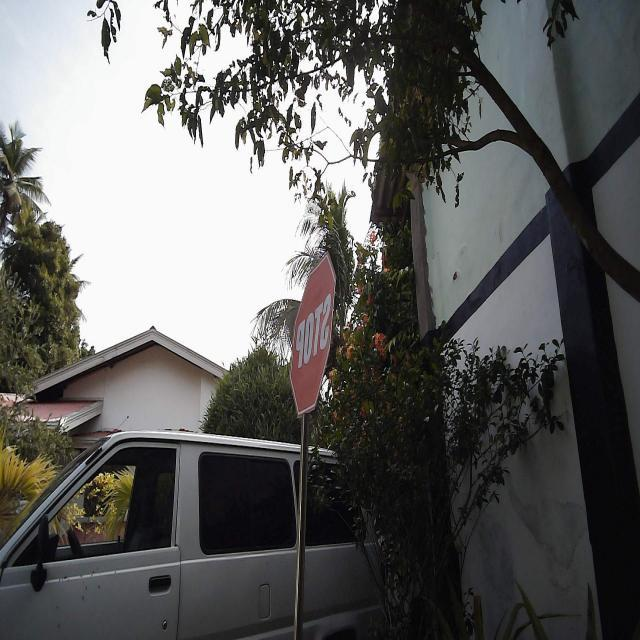stop: (288, 249, 338, 419)
